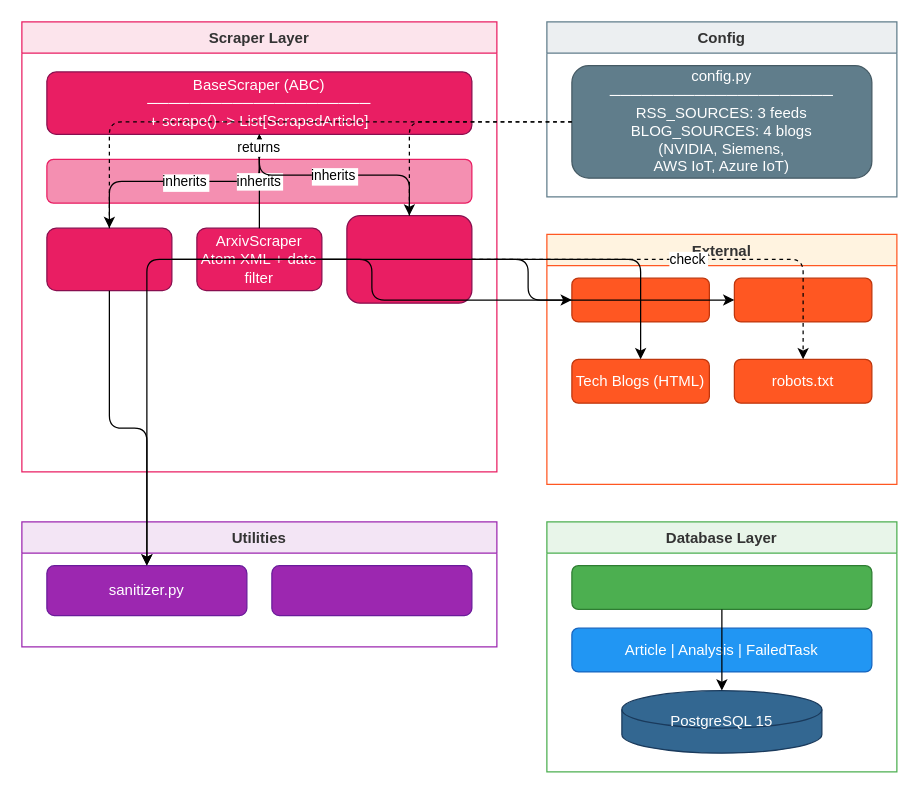
The diagram is 919 pixels wide and 794 high, and some of its shapes have lost their labels. Each missing label, with the centre of its shape:
"arXiv API" belongs at [802,299].
"BlogScraper CSS selectors robots.txt check rate_limit: 2.0s" belongs at [409,258].
"database.py (NullPool)" belongs at [721,586].
"logging.py" belongs at [371,590].
"RSS Feeds" belongs at [640,299].
"RssScraper keyword filtering" belongs at [109,259].
"ScrapedArticle (dataclass)" belongs at [259,180].
